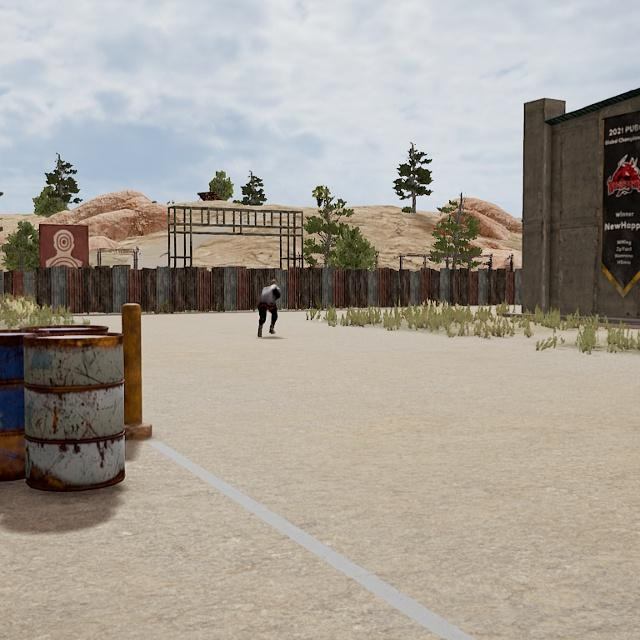head: (268, 277, 279, 287)
people: (257, 276, 283, 337)
